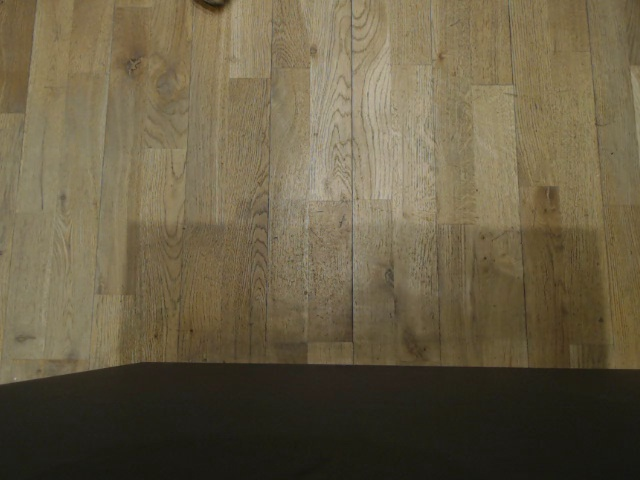beer: (195, 0, 232, 9)
